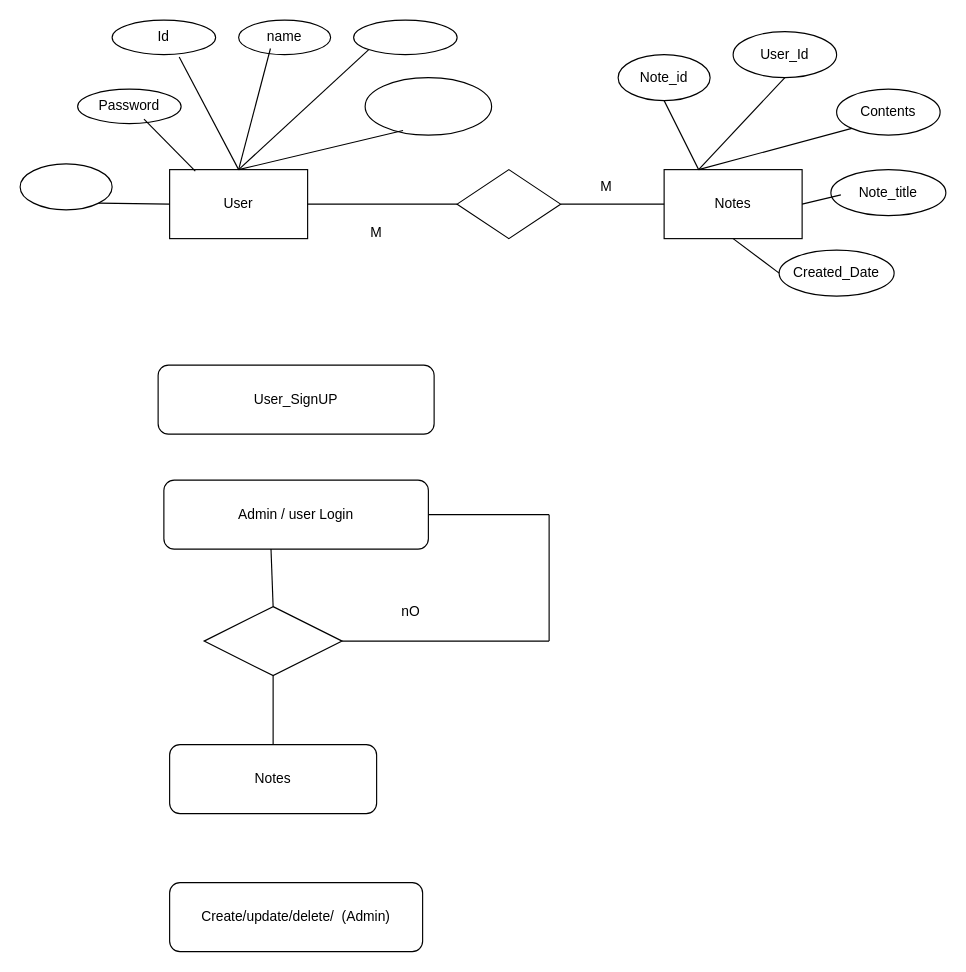
Image size: 966x972. Some labels were removed from this diagram. Each missing label, with the centre of its shape:
"Acc_created_Date" belongs at pixel 428 105.
"Admin" belongs at pixel 65 186.
"email" belongs at pixel 404 37.
"has" belongs at pixel 508 203.
"Success" belongs at pixel 272 640.
